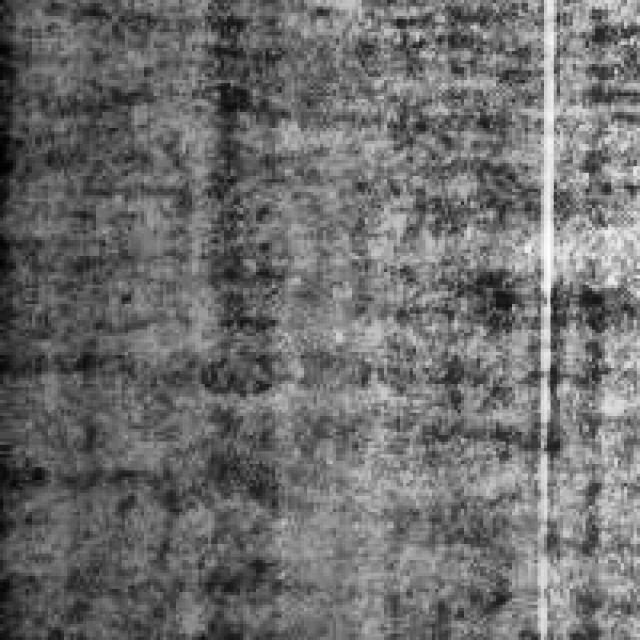Inclusion: (524, 0, 564, 589)
